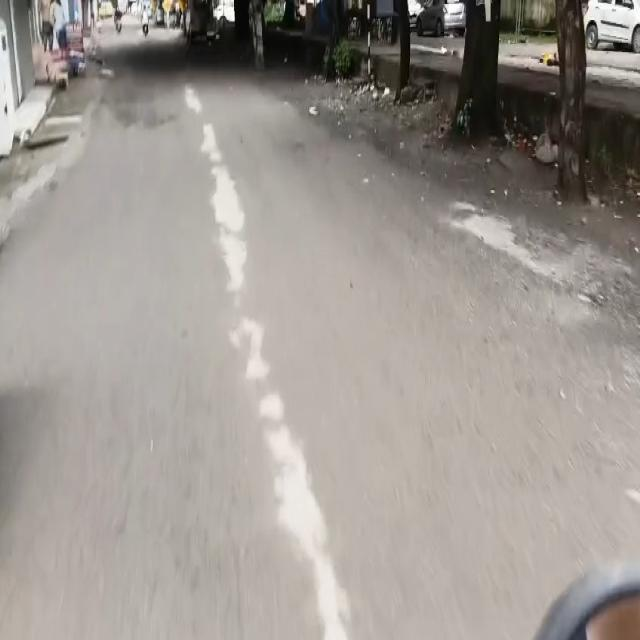road-pothole: (450, 208, 636, 309)
